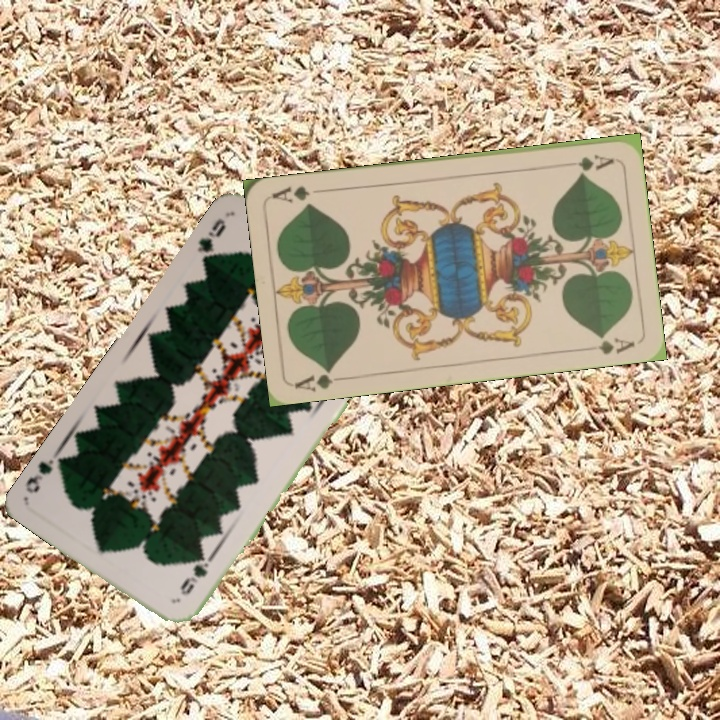G9: (176, 550, 215, 598), (193, 214, 229, 266)
GA: (292, 364, 351, 393), (574, 150, 617, 174)
